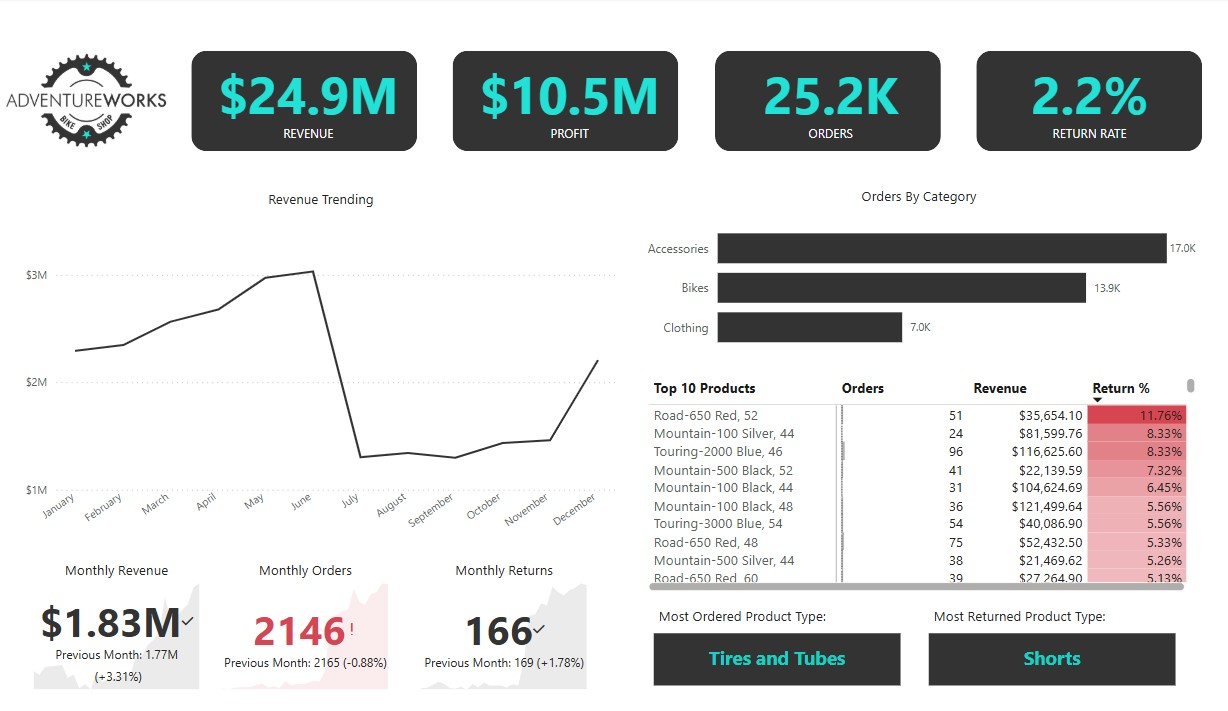

This screenshot's page, from the dashboard's own definition file:
{"tool":"powerbi","page":{"name":"EXEC Dashboard","canvas":[1280,720],"ordinal":0},"visuals":[{"type":"image","title":"AW Logo","box":[33.6,0,205.3,206.5],"z":0},{"type":"card","fields":{"Values":["AW_Sales.Total rev"]},"box":[204.9,0,303,206],"z":0,"group":"g2"},{"type":"group","id":"g1","title":"KPI BGs","box":[239.3,53,1006,100],"z":0,"group":"g3"},{"type":"shape","box":[239.3,53,225,100],"z":0,"group":"g1"},{"type":"actionButton","box":[0,482.7,44.8,39.8],"z":0,"group":"g4"},{"type":"shape","title":"Left Nav BG","box":[0,0,44.8,720.3],"z":1000},{"type":"group","id":"g2","title":"KPI Values","box":[204.9,0,1079.8,206.5],"z":1000,"group":"g3"},{"type":"card","fields":{"Values":["AW_Sales.Total Profit"]},"box":[464.9,0,303,206],"z":1000,"group":"g2"},{"type":"shape","box":[499.6,53,225,100],"z":1000,"group":"g1"},{"type":"actionButton","box":[0,542.4,44.8,39.8],"z":1000,"group":"g4"},{"type":"group","id":"g3","title":"KPIs","box":[204.9,0,1079.8,206.5],"z":2000},{"type":"card","fields":{"Values":["AW_Returns.return rate"]},"box":[981.9,0,303,206],"z":2000,"group":"g2"},{"type":"shape","box":[760,53,225,100],"z":2000,"group":"g1"},{"type":"actionButton","box":[0,597.1,44.8,39.8],"z":2000,"group":"g4"},{"type":"card","fields":{"Values":["AW_Sales.Total orders"]},"box":[724.9,0,303,206],"z":3000,"group":"g2"},{"type":"shape","box":[1020.3,53,225,100],"z":3000,"group":"g1"},{"type":"lineChart","title":"Revenue Trending","fields":{"Y":["AW_Sales.Total rev","Min(AW_Calendar_Lookup.Date.Variation.Date Hierarchy.Month)"],"Category":["AW_Calendar_Lookup.Date.Variation.Date Hierarchy.Year","AW_Calendar_Lookup.Date.Variation.Date Hierarchy.Quarter","AW_Calendar_Lookup.Date.Variation.Date Hierarchy.Month","AW_Calendar_Lookup.Date.Variation.Date Hierarchy.Day"]},"box":[69.8,191.7,599,350],"z":3000},{"type":"actionButton","box":[0,654.4,44.8,39.8],"z":3000,"group":"g4"},{"type":"kpi","title":"Monthly Revenue","fields":{"Indicator":["AW_Sales.Total rev"],"TrendLine":["AW_Calendar_Lookup.Start of Month"],"Goal":["AW_Sales.Prev month rev"]},"box":[78.1,561.5,175,133.3],"z":4000},{"type":"kpi","title":"Monthly Orders","fields":{"TrendLine":["AW_Calendar_Lookup.Start of Month"],"Indicator":["AW_Sales.Total orders"],"Goal":["AW_Sales.Prev Month Orders"]},"box":[265.6,561.5,175,133.3],"z":5000},{"type":"kpi","title":"Monthly Returns","fields":{"TrendLine":["AW_Calendar_Lookup.Start of Month"],"Indicator":["AW_Returns.total return"],"Goal":["AW_Returns.Prev Month Returns"]},"box":[463.5,561.5,175,133.3],"z":6000},{"type":"barChart","title":"Orders By Category","fields":{"Category":["AW_Product_Category_Lookup.CategoryName"],"Y":["AW_Sales.Total orders"]},"box":[684.4,189.6,560.4,177.1],"z":7000},{"type":"pivotTable","fields":{"Rows":["AW_Product_Lookup.ProductName"],"Values":["AW_Sales.Total orders","AW_Sales.Total rev","AW_Returns.return rate"]},"box":[690.6,374,554.2,221.9],"z":8000},{"type":"card","fields":{"Values":["Min(AW_Product_Subcategory_Lookup.SubcategoryName)"]},"box":[700,633.3,245.8,52.1],"z":9000},{"type":"textbox","box":[700,602.1,192.7,31.2],"z":10000},{"type":"card","fields":{"Values":["Min(AW_Product_Subcategory_Lookup.SubcategoryName)"]},"box":[973.5,632.9,245.8,52.1],"z":11000},{"type":"textbox","box":[973.5,601.7,191.7,31.2],"z":12000},{"type":"actionButton","box":[0,0,44.8,41.1],"z":13000},{"type":"group","id":"g4","title":"nav buttons","box":[0,482.7,44.8,211.5],"z":14000},{"type":"actionButton","box":[0,53.5,44.8,49.8],"z":15000}]}

Visuals, with their boxes in screenshot pixels (x1, y1, x2, y2), scaled from the page's 1280x720 canvas onto the 1228x711 screenshot:
"AW Logo" image: l=32, t=0, r=229, b=204
card - AW_Sales.Total rev: l=197, t=0, r=487, b=203
"KPI BGs" group: l=230, t=52, r=1195, b=151
shape: l=230, t=52, r=445, b=151
actionButton: l=0, t=477, r=43, b=516
"Left Nav BG" shape: l=0, t=0, r=43, b=710
"KPI Values" group: l=197, t=0, r=1227, b=204
card - AW_Sales.Total Profit: l=446, t=0, r=737, b=203
shape: l=479, t=52, r=695, b=151
actionButton: l=0, t=536, r=43, b=575
"KPIs" group: l=197, t=0, r=1227, b=204
card - AW_Returns.return rate: l=942, t=0, r=1227, b=203
shape: l=729, t=52, r=945, b=151
actionButton: l=0, t=590, r=43, b=629
card - AW_Sales.Total orders: l=695, t=0, r=986, b=203
shape: l=979, t=52, r=1195, b=151
"Revenue Trending" lineChart: l=67, t=189, r=642, b=535
actionButton: l=0, t=646, r=43, b=686
"Monthly Revenue" kpi: l=75, t=554, r=243, b=686
"Monthly Orders" kpi: l=255, t=554, r=423, b=686
"Monthly Returns" kpi: l=445, t=554, r=613, b=686
"Orders By Category" barChart: l=657, t=187, r=1194, b=362
pivotTable - AW_Product_Lookup.ProductName x AW_Sales.Total orders: l=663, t=369, r=1194, b=588
card - Min(AW_Product_Subcategory_Lookup.SubcategoryName): l=672, t=625, r=907, b=677
textbox: l=672, t=595, r=856, b=625
card - Min(AW_Product_Subcategory_Lookup.SubcategoryName): l=934, t=625, r=1170, b=676
textbox: l=934, t=594, r=1118, b=625
actionButton: l=0, t=0, r=43, b=41
"nav buttons" group: l=0, t=477, r=43, b=686
actionButton: l=0, t=53, r=43, b=102
